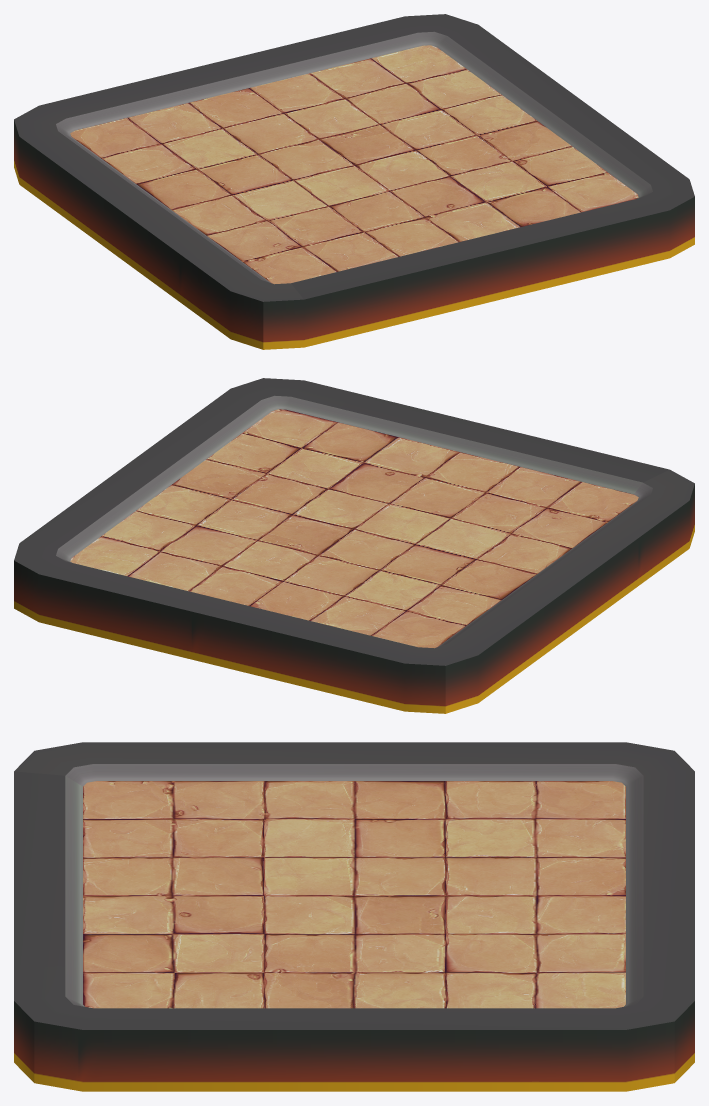
The model's file is egypt_moving_platform.fbx.
The picture shows the model from 3 angles, top to bottom: view 1: azimuth 30°, elevation 25°; view 2: azimuth 150°, elevation 25°; view 3: azimuth 270°, elevation 25°; orthographic projection. The views are drawn at different scales.
Parts seen in each view (by area): view 1: Plane.203; view 2: Plane.203; view 3: Plane.203.
Boxes of the visible parts, left/top/right/bottom form: Plane.203: left=14, top=14, right=694, bottom=349; Plane.203: left=14, top=378, right=694, bottom=713; Plane.203: left=14, top=742, right=694, bottom=1091.
Bounding box in the file's own units: 1000 × 100 × 1000.
